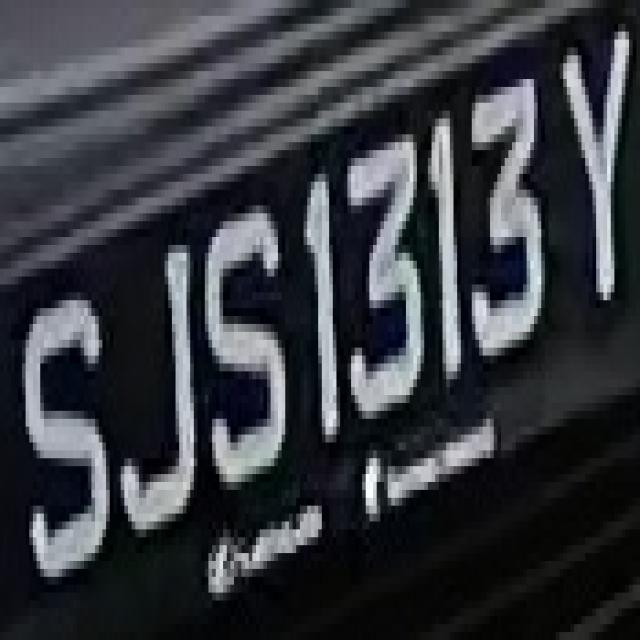1: (304, 119, 344, 474), (428, 87, 464, 427)
3: (326, 134, 435, 442), (450, 71, 552, 371)
J: (95, 221, 201, 545)
S: (11, 268, 110, 592), (197, 190, 289, 530)
